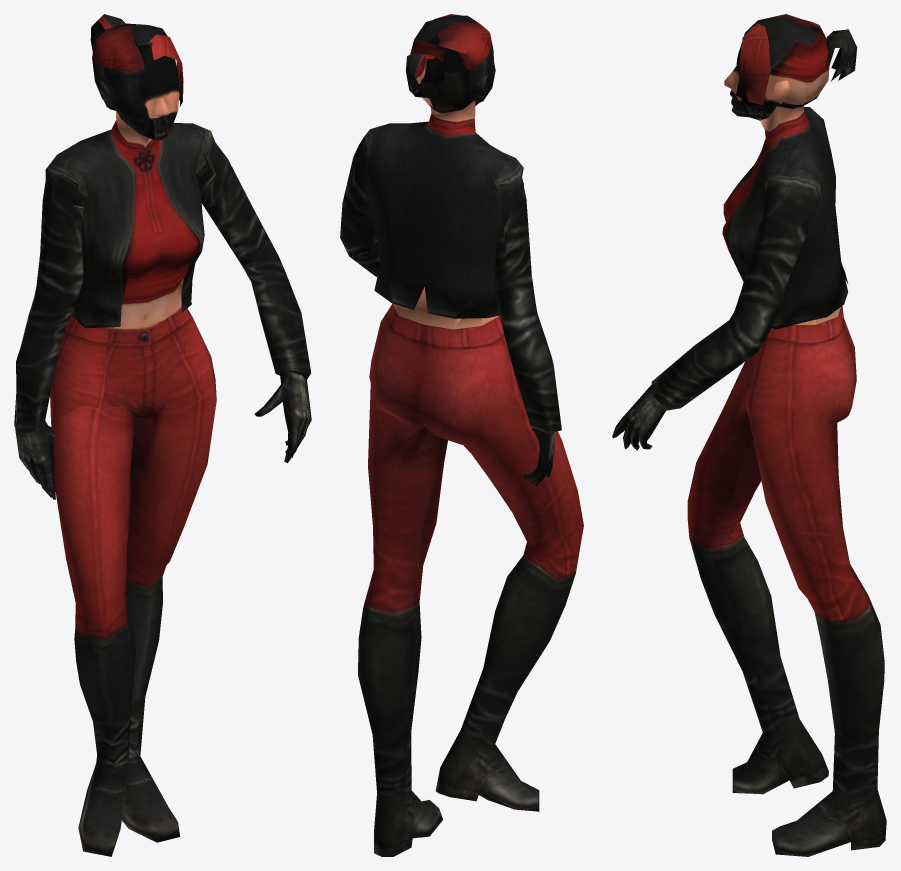
3 views of the same model, side by side, from view 1: azimuth 30°, elevation 25°; view 2: azimuth 150°, elevation 25°; view 3: azimuth 270°, elevation 25° (orthographic).
Visible parts, largest first — view 1: SketchUp (×5); view 2: SketchUp (×4); view 3: SketchUp (×5).
Boxes of the visible parts, x1=… form: SketchUp (×5): x1=14, y1=23, x2=311, y2=856; SketchUp (×4): x1=340, y1=15, x2=583, y2=856; SketchUp (×5): x1=612, y1=14, x2=886, y2=856.
Bounding box in the file's own units: 67.26 × 66.23 × 218.
Materials: 2 (2 with a texture image).
